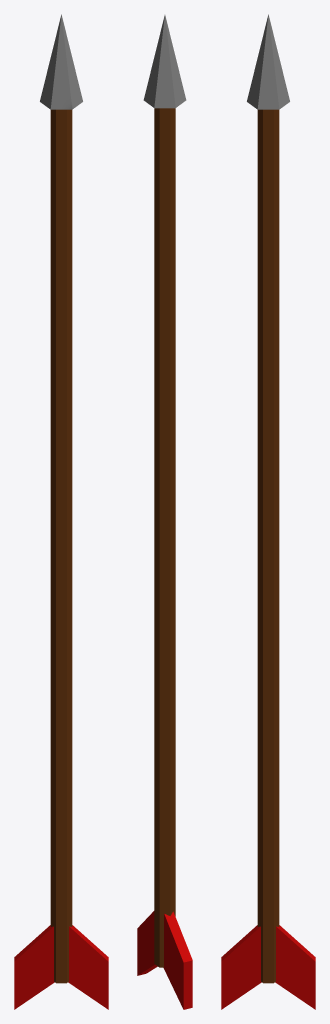
Rendered from ArrowModel.fbx.
3 views of the same model, side by side, from view 1: azimuth 90°, elevation 25°; view 2: azimuth 210°, elevation 25°; view 3: azimuth 270°, elevation 25° (orthographic).
Parts seen in each view (by area): view 1: Cone; view 2: Cone; view 3: Cone.
Boxes of the visible parts, x1=… form: Cone: x1=14, y1=14, x2=108, y2=1009; Cone: x1=137, y1=15, x2=192, y2=1009; Cone: x1=221, y1=14, x2=315, y2=1009.
Size of the model in its own units: 1.95 by 56.62 by 4.87.
Materials: 1 (1 with a texture image).
